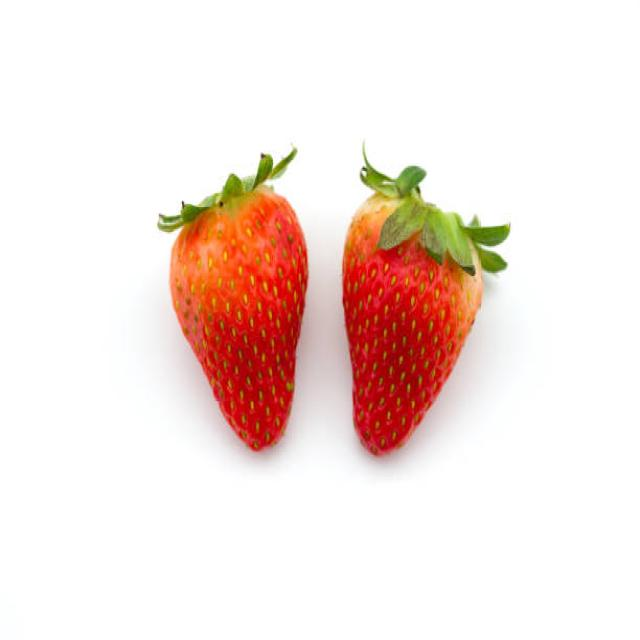Healthy Fruit: (170, 184, 310, 451), (342, 195, 480, 457)
